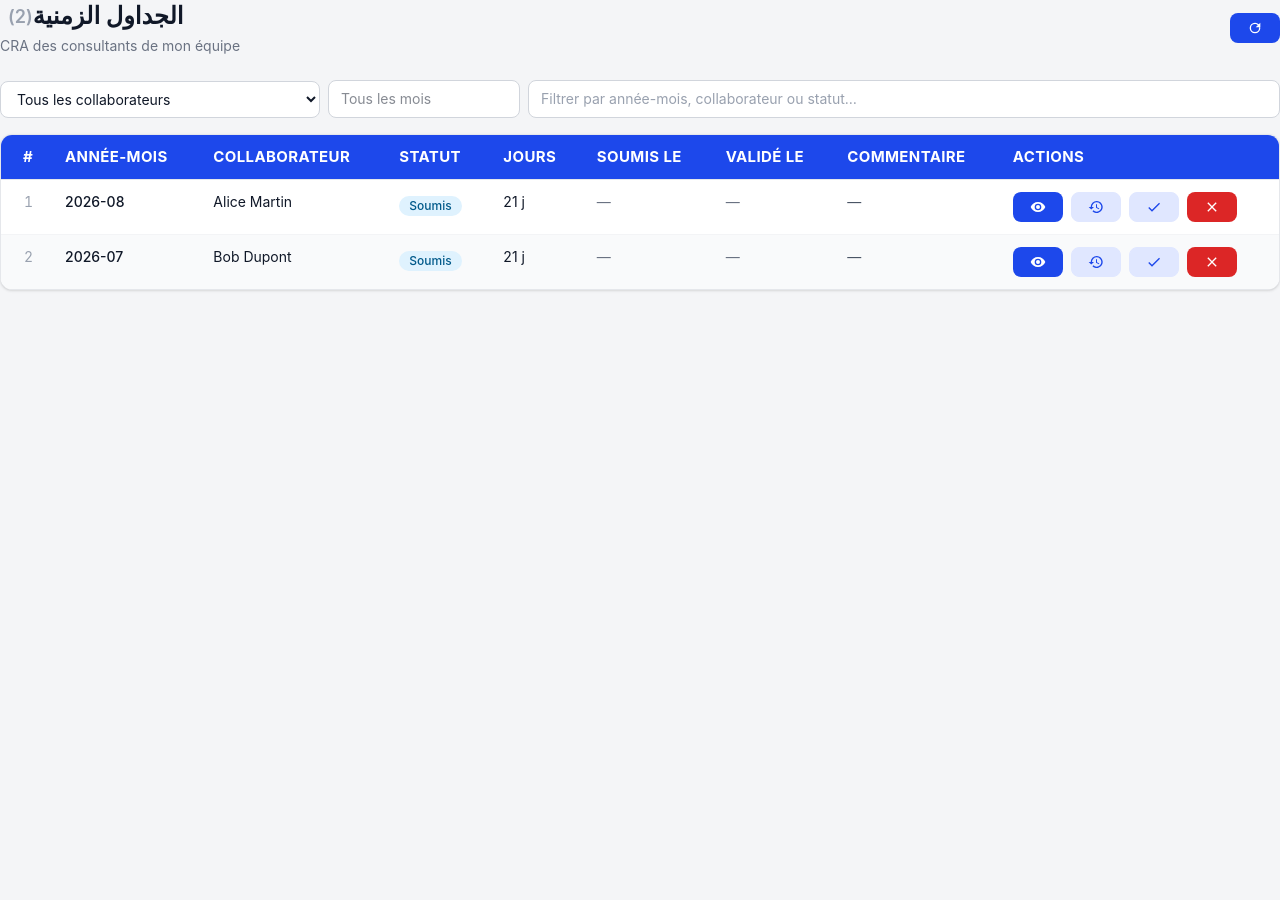
Test case: CraList › filtre les CRA par mois
Check: the text "Alice Martin" is shown, box [197,180,383,234]
Check: the text "Bob Dupont" is shown, box [197,234,383,289]
Click the field titled "Filtrer par mois" at {"x": 424, "y": 99}, box [328,80,520,118]
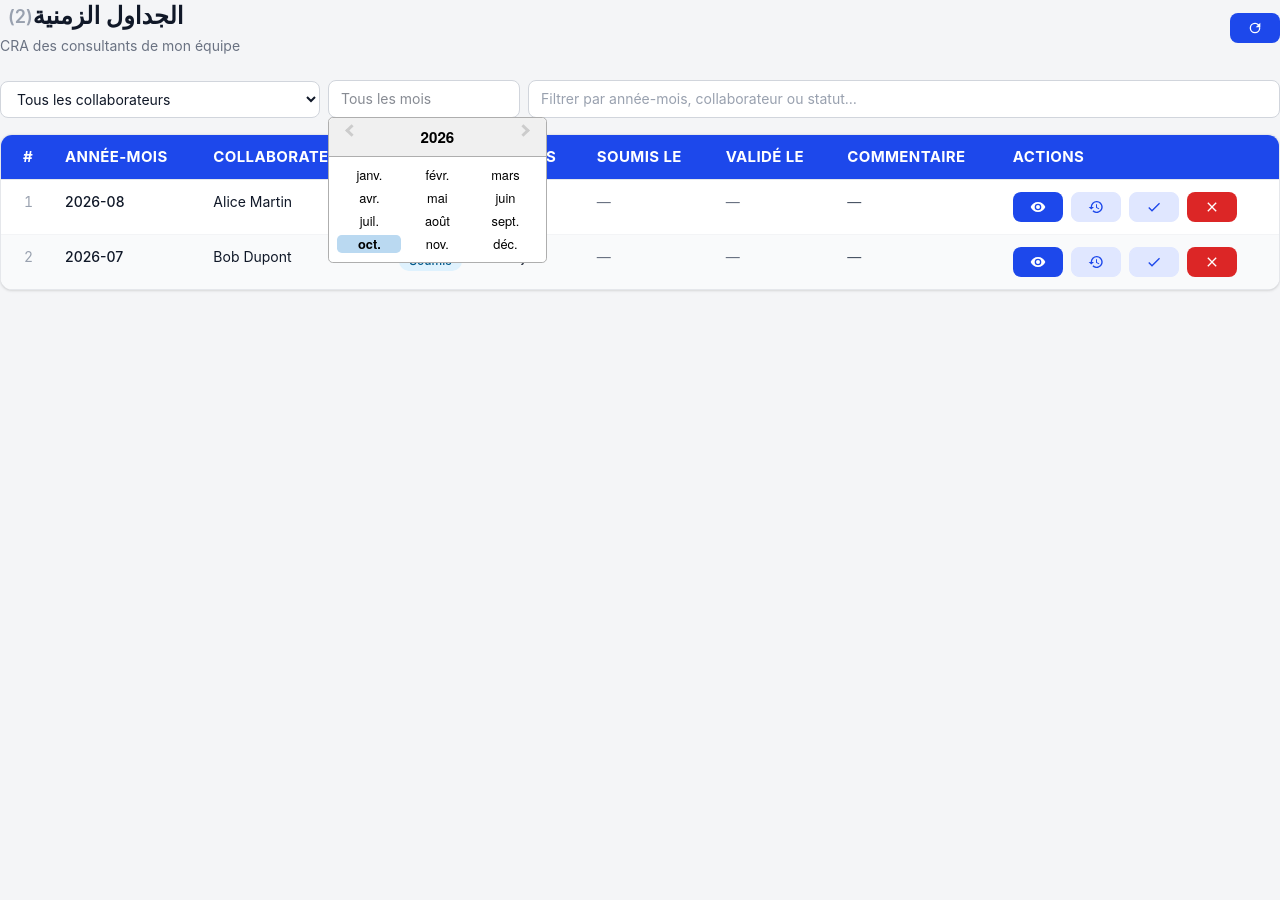
Click the option "juil." at {"x": 369, "y": 221}, box [360,211,379,230]
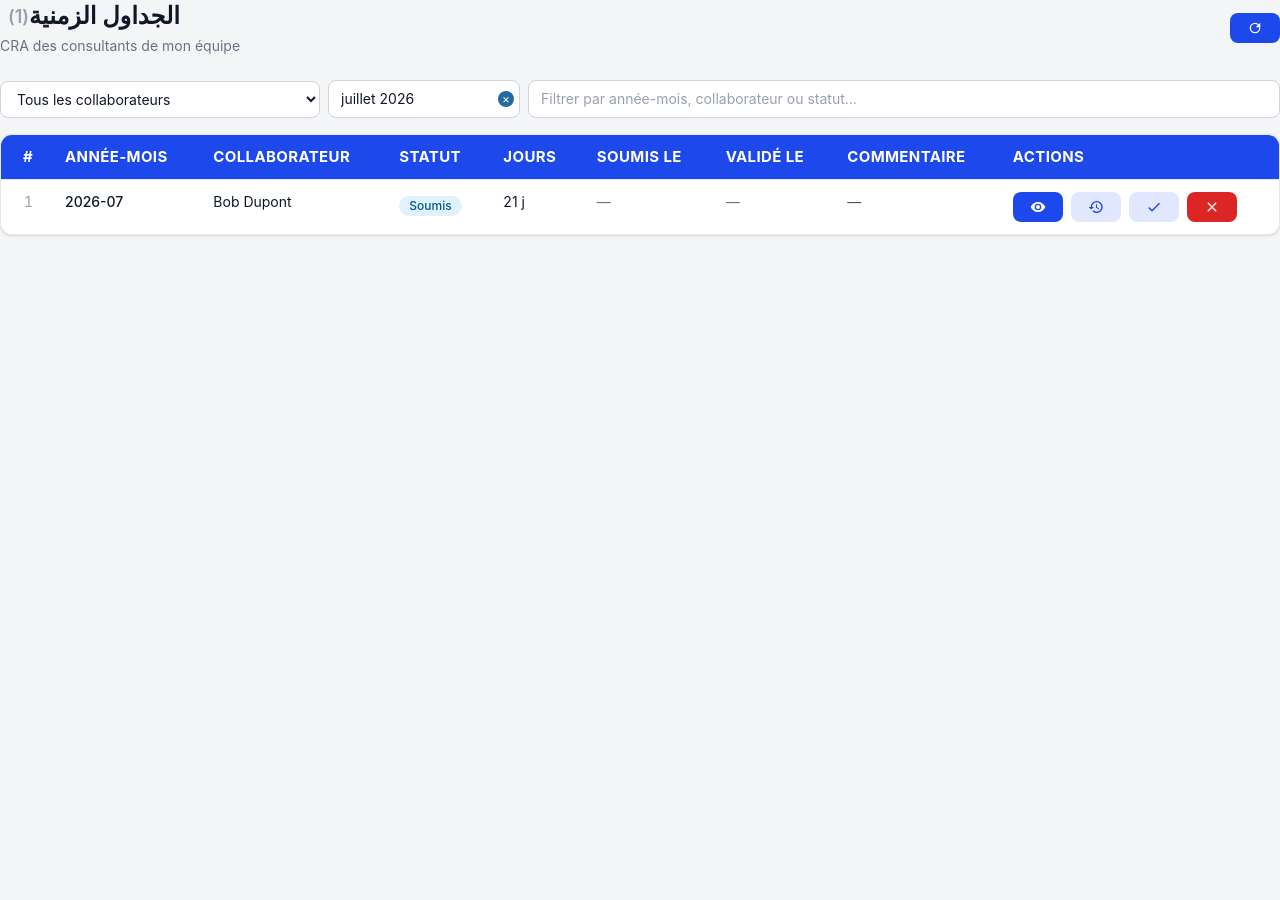
Check: the text "Bob Dupont" is shown, box [197,180,383,234]
Check: the text "Alice Martin" is gone
